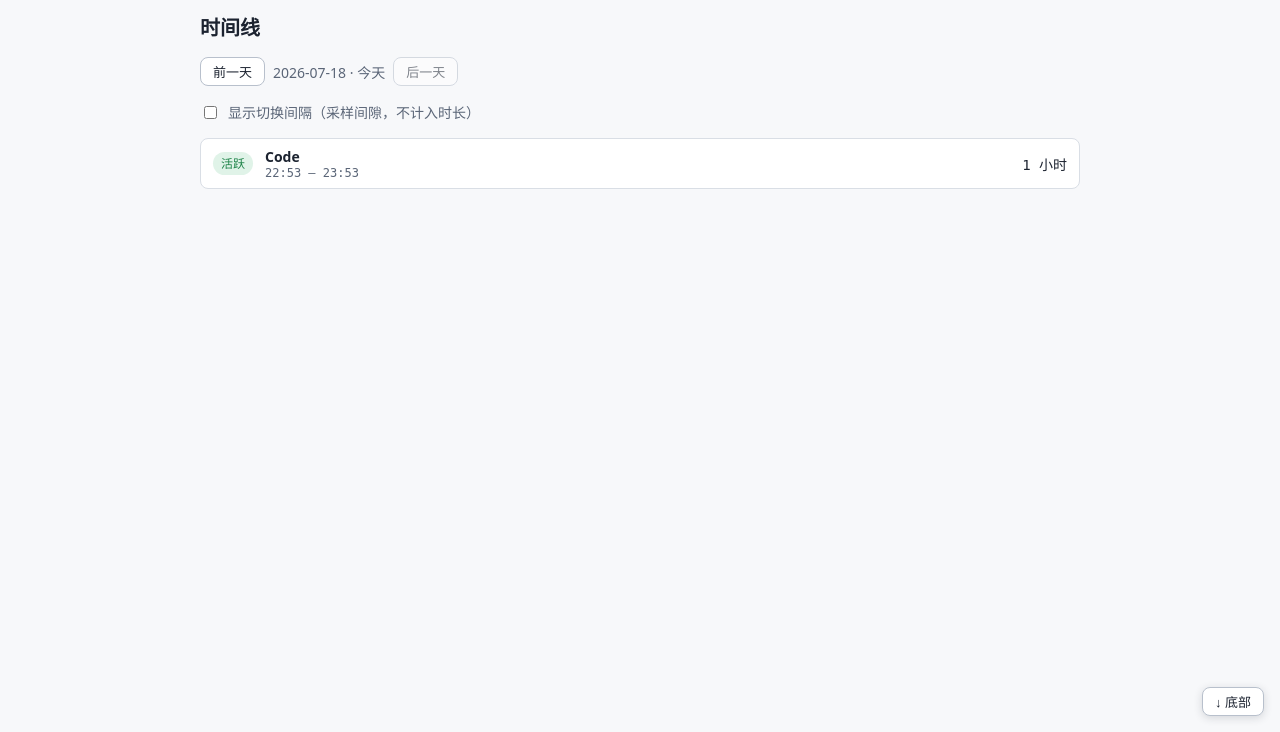
Timeline 页面 › A→B→A 交错：旧 A 完成不得清除新 A 的同目标防重入登记
Expected: the text "Code" is shown, [265,147,300,166]
What coordinates should you click on to do the following:
click the button "前一天"
I would click on:
 (232, 72)
Its box is [200,57,265,86].
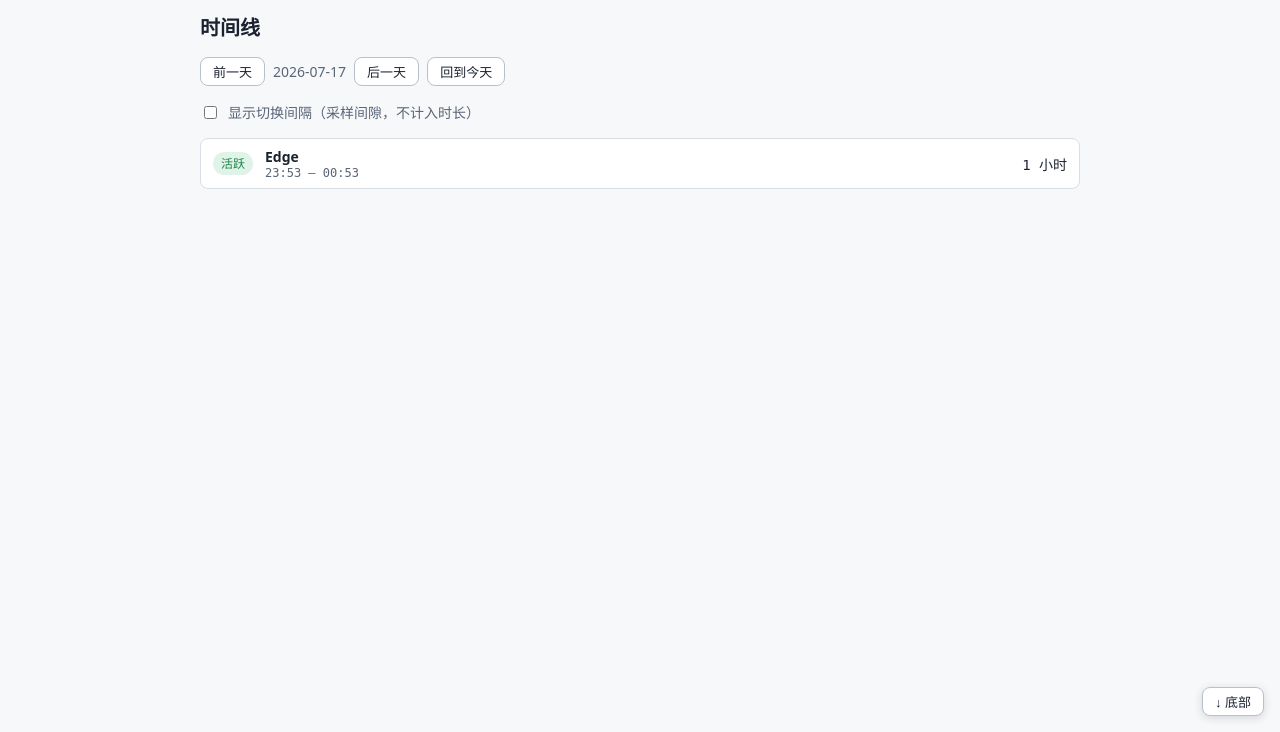
Expected: the text "Edge" is shown, [265,147,299,166]
Note: B→A，A2 pending。
What coordinates should you click on to do the following:
click the button "回到今天"
I would click on:
 (466, 72)
Its box is [427,57,505,86].
Wait 5000 ms
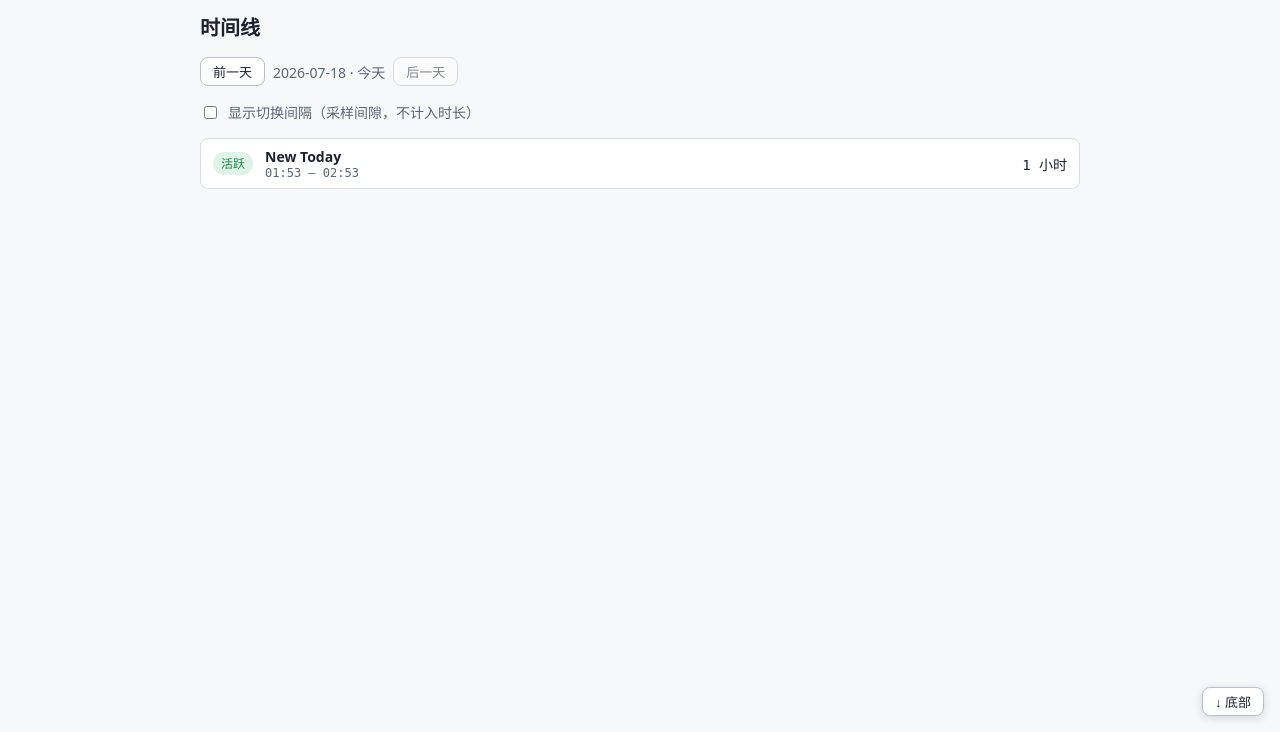
Expected: the text "New Today" is shown, [265,147,341,166]
